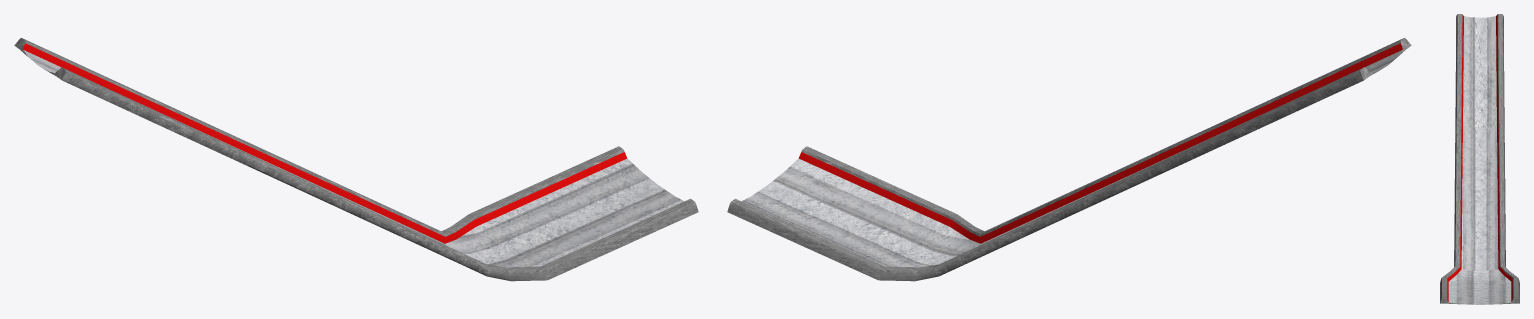
The model's file is ski jump finalver.fbx.
3 renders of one model, left to right at view 1: azimuth 30°, elevation 25°; view 2: azimuth 150°, elevation 25°; view 3: azimuth 270°, elevation 25°, orthographic. The views are drawn at different scales.
Visible parts, largest first — view 1: pPlane1; view 2: pPlane1; view 3: pPlane1.
Boxes of the visible parts, x1,y1,x2,y2 form: pPlane1: [14, 38, 698, 281]; pPlane1: [727, 38, 1411, 281]; pPlane1: [1440, 14, 1519, 304].
Size of the model in its own units: 30.36 by 14.64 by 6.75.
